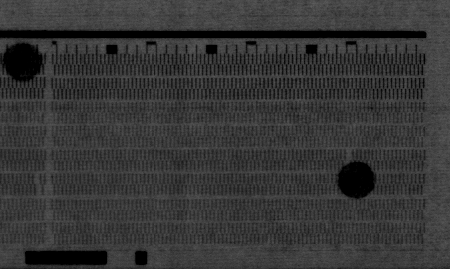Broken hole: (31, 172, 45, 198), (342, 149, 354, 167)
